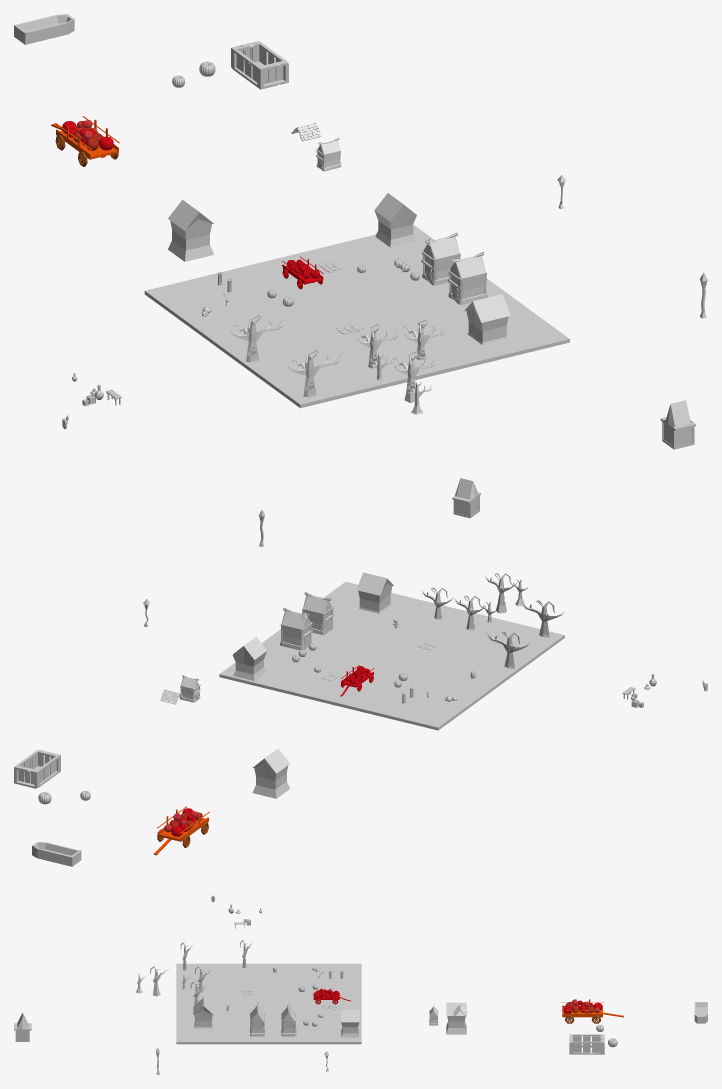
Rendered from lamp.fbx.
3 views of the same model, one above another, from view 1: azimuth 30°, elevation 25°; view 2: azimuth 150°, elevation 25°; view 3: azimuth 270°, elevation 25° (orthographic). The views are drawn at different scales.
Parts seen in each view (by area): view 1: Cube, Cube.006, Cube.001, Cube.011, Plane.002, Cube.002, Plane.003, Cube.003, Cube.012, Cube.021, Cube.013, Cylinder.019 (+1 smaller); view 2: Cube, Cube.001, Cube.006, Cube.011, Plane.003, Cube.002, Plane.002, Cube.012, Cube.003; view 3: Cube, Cube.006, Cube.001, Cube.011, Cube.002, Plane.003, Plane.002, Cube.012, Cube.021, Cube.013.
Boxes of the visible parts, x1,y1,x2,y2 form: Cube: (144,225,569,408); Cube.006: (231,41,288,89); Cube.001: (168,200,214,261); Cube.011: (464,294,510,344); Plane.002: (447,251,487,304); Cube.002: (374,193,416,247); Plane.003: (421,232,460,285); Cube.003: (14,14,74,44); Cube.012: (660,400,695,449); Cube.021: (281,256,323,289); Cube.013: (55,116,119,159); Cylinder.019: (288,349,341,397); Cube: (219,582,564,730); Cube.001: (252,748,290,798); Cube.006: (14,749,60,788); Cube.011: (356,572,393,613); Plane.003: (280,607,312,650); Cube.002: (233,637,266,680); Plane.002: (302,592,333,634); Cube.012: (452,478,480,518); Cube.003: (32,842,81,866); Cube: (176,963,361,1044); Cube.006: (569,1034,604,1054); Cube.001: (446,1002,466,1034); Cube.011: (193,997,213,1028); Cube.002: (341,1010,359,1037); Plane.003: (281,1003,296,1036); Plane.002: (250,1003,264,1036); Cube.012: (14,1012,31,1041); Cube.021: (312,988,350,1004); Cube.013: (561,999,604,1017).
Size of the model in its own units: 36290 by 5761 by 61194.
